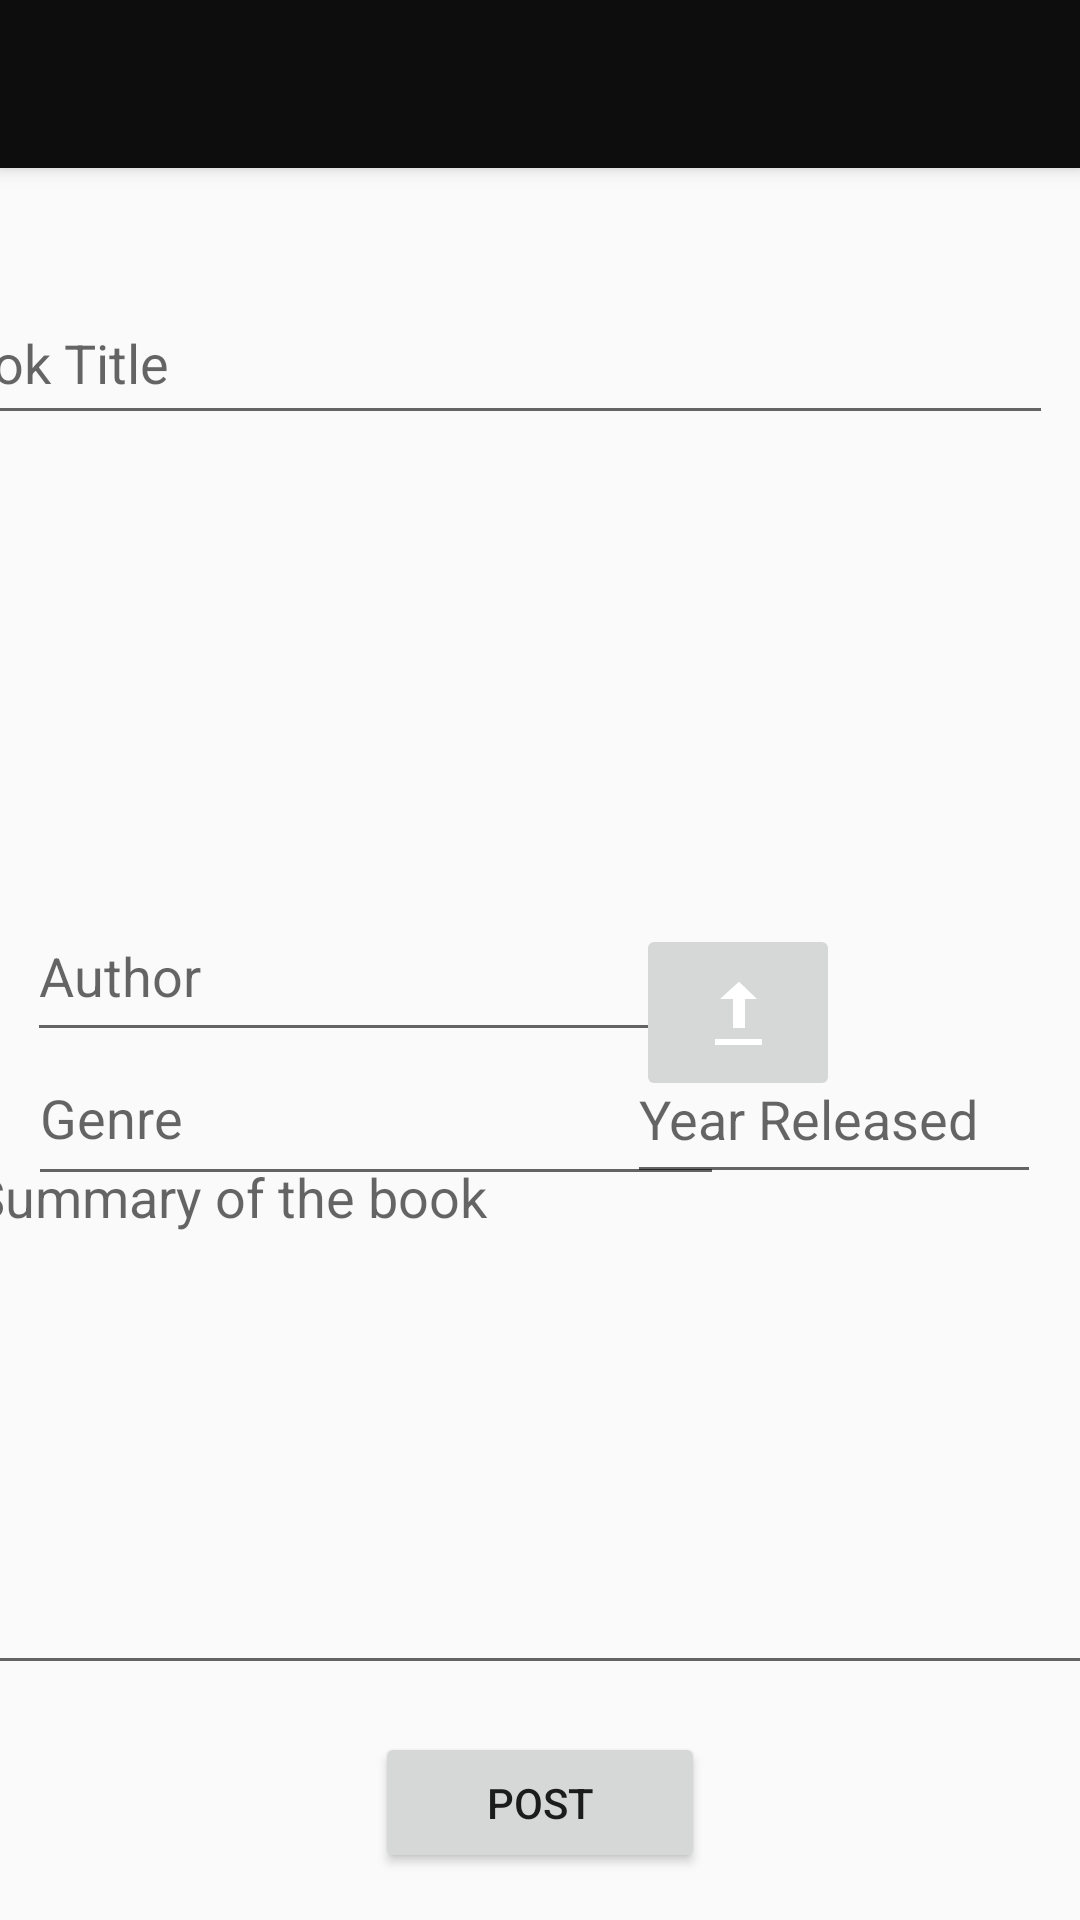

Where to tap for icons on this 1080*1920 app screen, as [x,y]:
upload: [732,1021]
